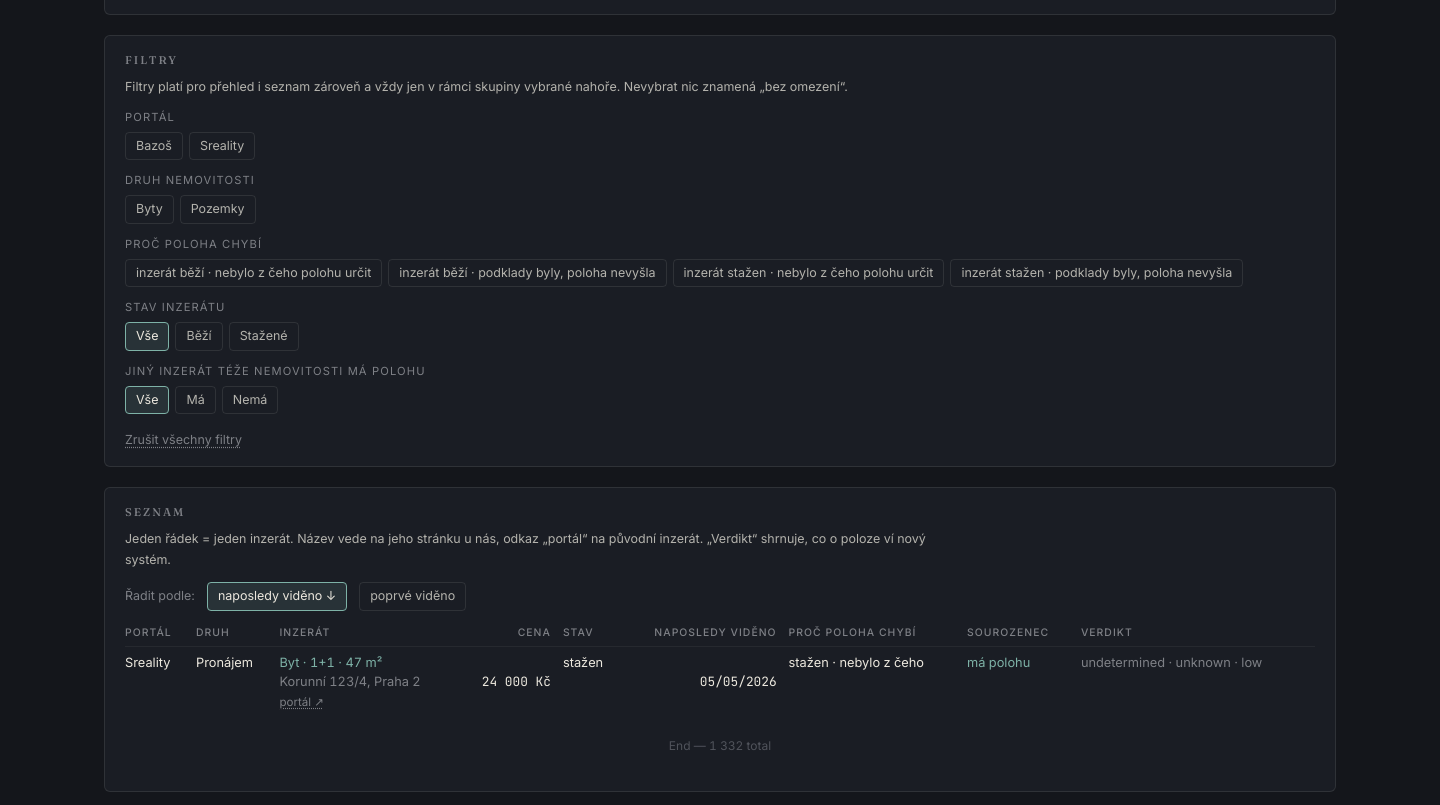
Test: LocationPinAudit › sends the sibling filter to the server
(page scrolled)
Click the button "Má".
click(196, 400)  # box top-left (176, 386), bottom-right (216, 414)
(page scrolled)
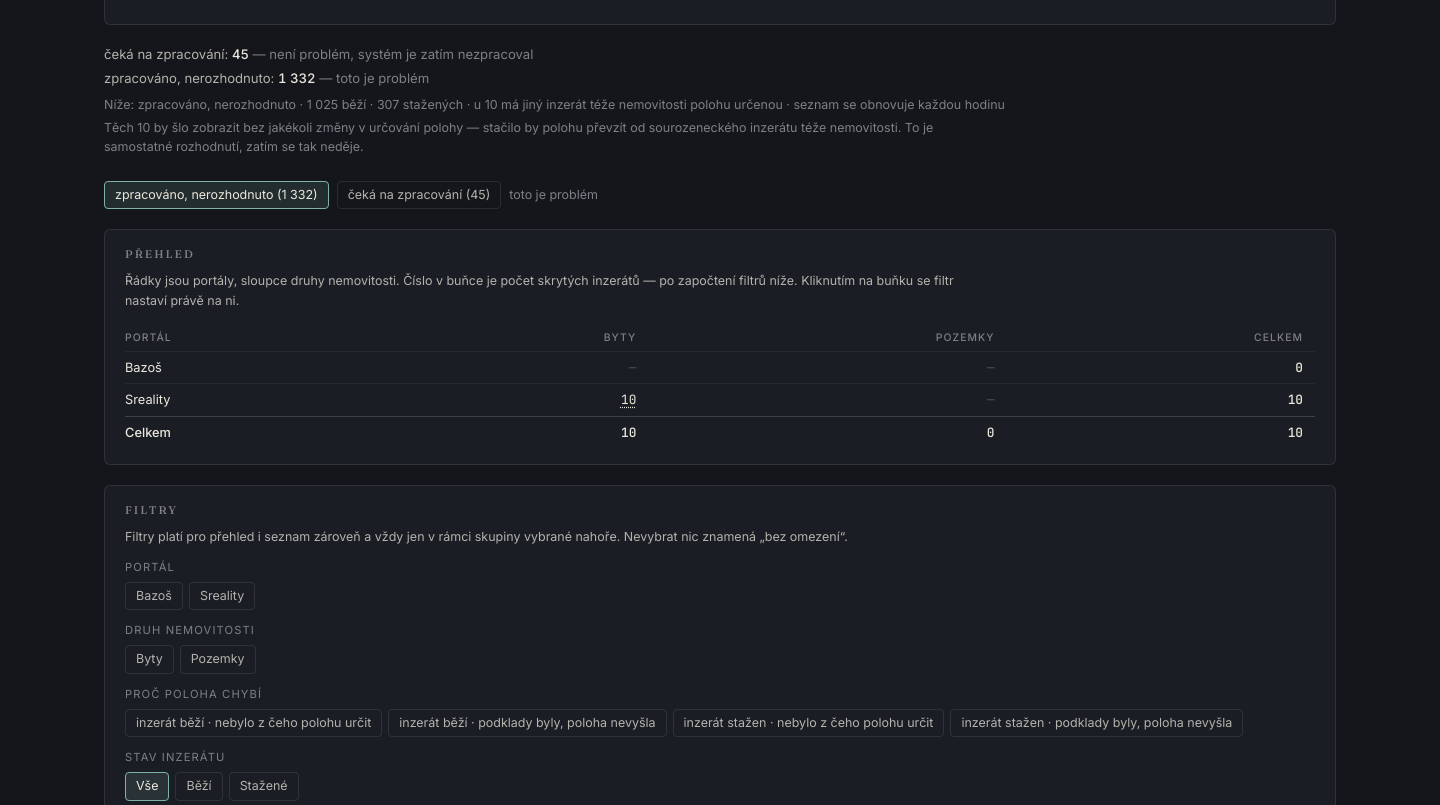
Now the 2nd cell "10" is shown, box top-left (1006, 384), bottom-right (1315, 416)
